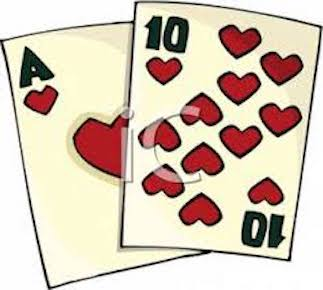AceOfHearts: (1, 16, 134, 289)
TenOfHearts: (118, 1, 323, 261)
